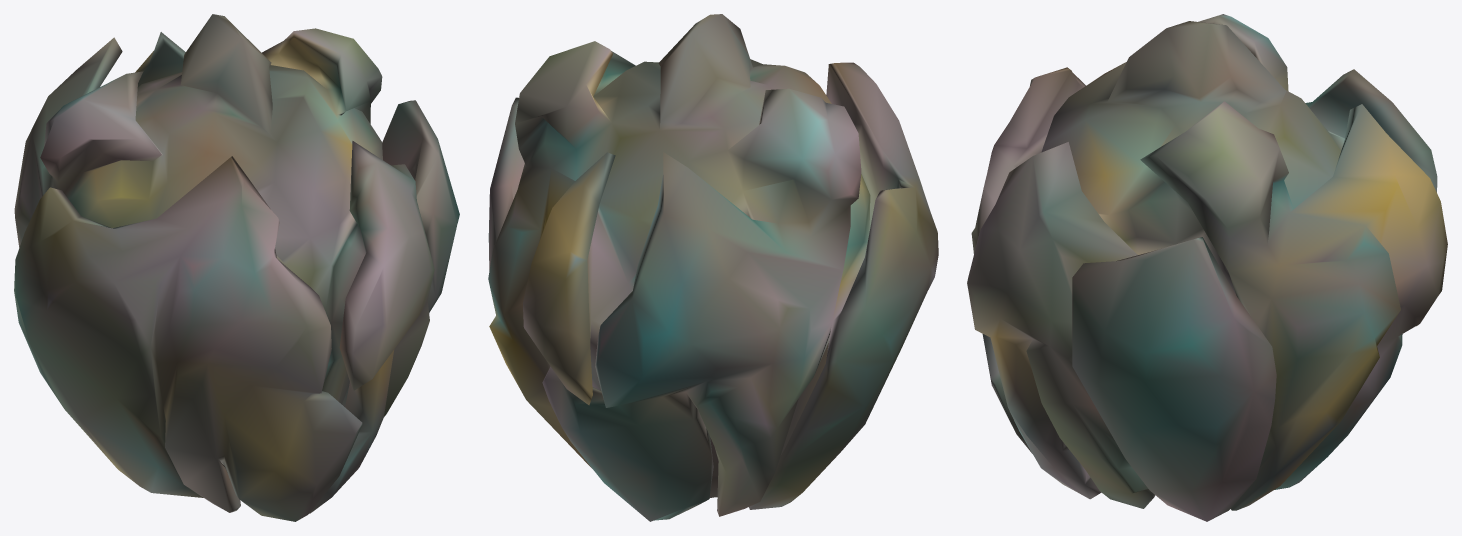
Rendered from BigDrop_game.glb.
3 renders of one model, left to right at view 1: azimuth 30°, elevation 25°; view 2: azimuth 150°, elevation 25°; view 3: azimuth 270°, elevation 25°, orthographic. The views are drawn at different scales.
Parts seen in each view (by area): view 1: BigDrop; view 2: BigDrop; view 3: BigDrop.
Part boxes in pixels (x1=…): BigDrop: x1=14, y1=14, x2=459, y2=521; BigDrop: x1=488, y1=14, x2=938, y2=521; BigDrop: x1=967, y1=14, x2=1447, y2=521.
Bounding box in the file's own units: 0.9871 × 1.06 × 0.9943.
